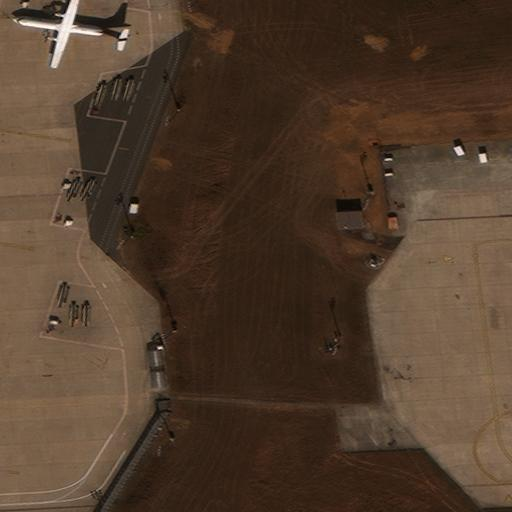Medium Civil Transport: (12, 0, 128, 67)
